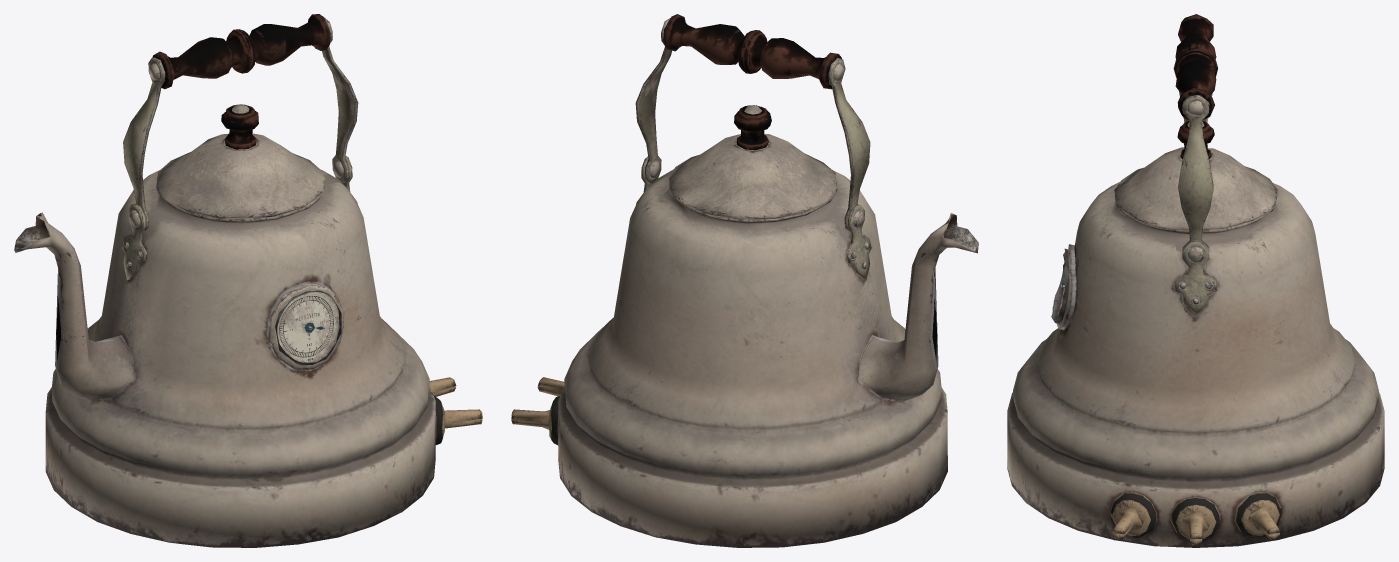
Rendered from vintage_electric_kettle.fbx.
The picture shows the model from 3 angles, left to right: view 1: azimuth 30°, elevation 25°; view 2: azimuth 150°, elevation 25°; view 3: azimuth 270°, elevation 25°; orthographic projection. The views are drawn at different scales.
Parts seen in each view (by area): view 1: vintage_electric_kettle_LOD0; view 2: vintage_electric_kettle_LOD0; view 3: vintage_electric_kettle_LOD0.
Boxes of the visible parts, <box> form: vintage_electric_kettle_LOD0: <box>14,14,482,547</box>; vintage_electric_kettle_LOD0: <box>511,14,978,547</box>; vintage_electric_kettle_LOD0: <box>1007,14,1384,547</box>.
Size of what is drawn, in the model's own units: 32.11 by 30.48 by 24.81.
Materials: 2 (2 with a texture image).
